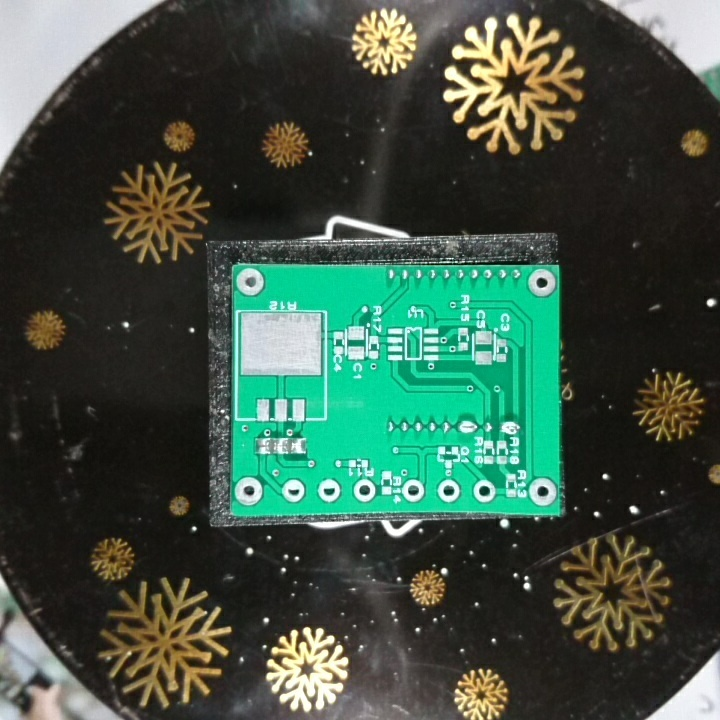F: (234, 266, 268, 297), (526, 268, 557, 300), (234, 477, 265, 508), (528, 475, 558, 506), (471, 478, 499, 506), (434, 477, 462, 504), (400, 478, 427, 505), (317, 477, 343, 504), (281, 478, 306, 505), (352, 478, 377, 502)
P: (457, 417, 479, 436), (500, 418, 523, 436)
